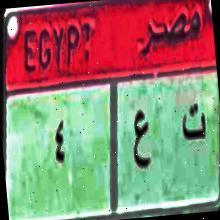4: (49, 117, 70, 172)
ain: (126, 102, 156, 178)
taa: (175, 93, 209, 155)
